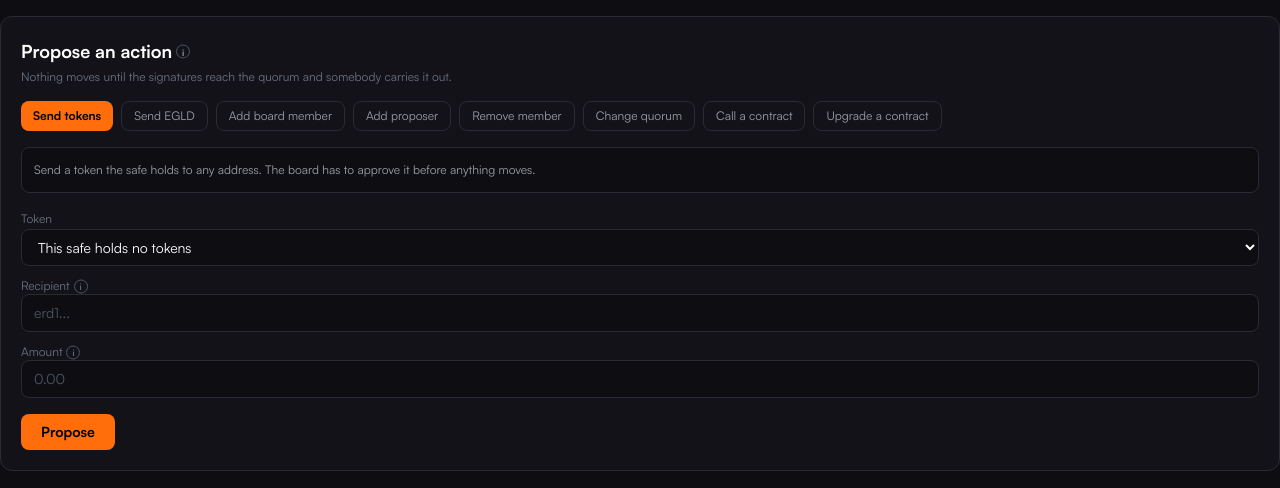
removing an address with no role is refused before any transaction
This screenshot has width=1280, height=488.
Click the button "Remove member".
click(517, 116)  # box [459,101,575,131]
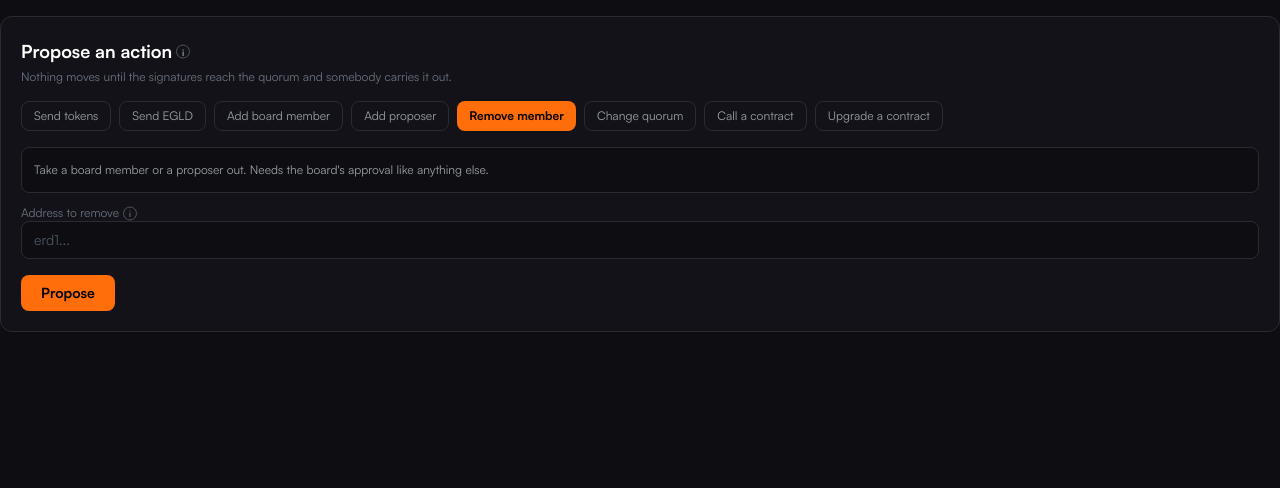
Type "erd1v6zzkkmhhq9vrtyedy0xwmzdnme8tzj5pvcvlnrys87zmkunxezsvh4kq3" into the field with placeholder "erd1...".
click(640, 240); type("erd1v6zzkkmhhq9vrtyedy0xwmzdnme8tzj5pvcvlnrys87zmkunxezsvh4kq3")  # box [21,220,1259,258]
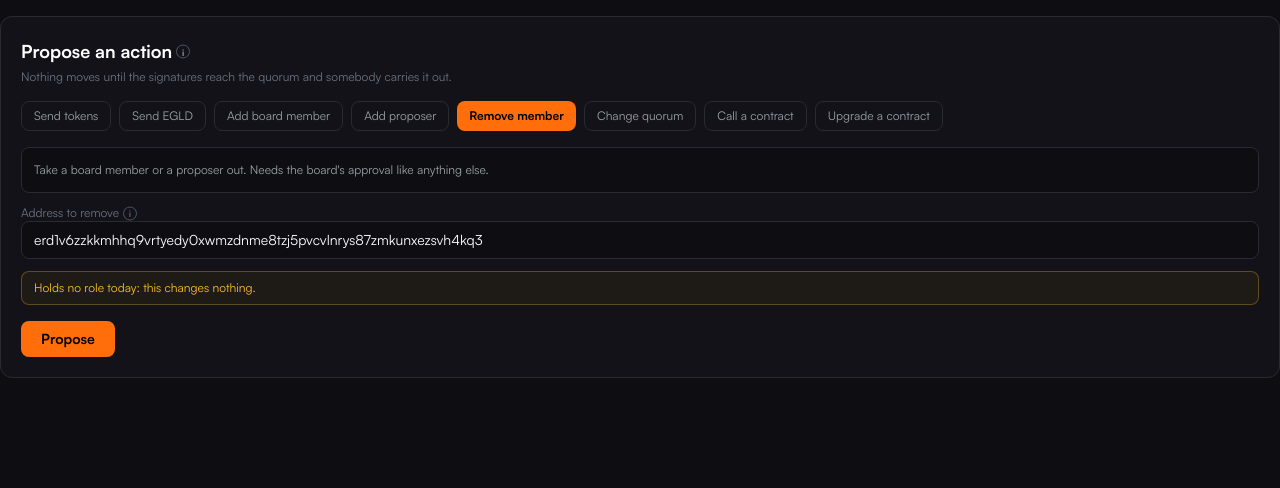
Click the button "Propose".
click(68, 338)  # box [21,320,115,356]
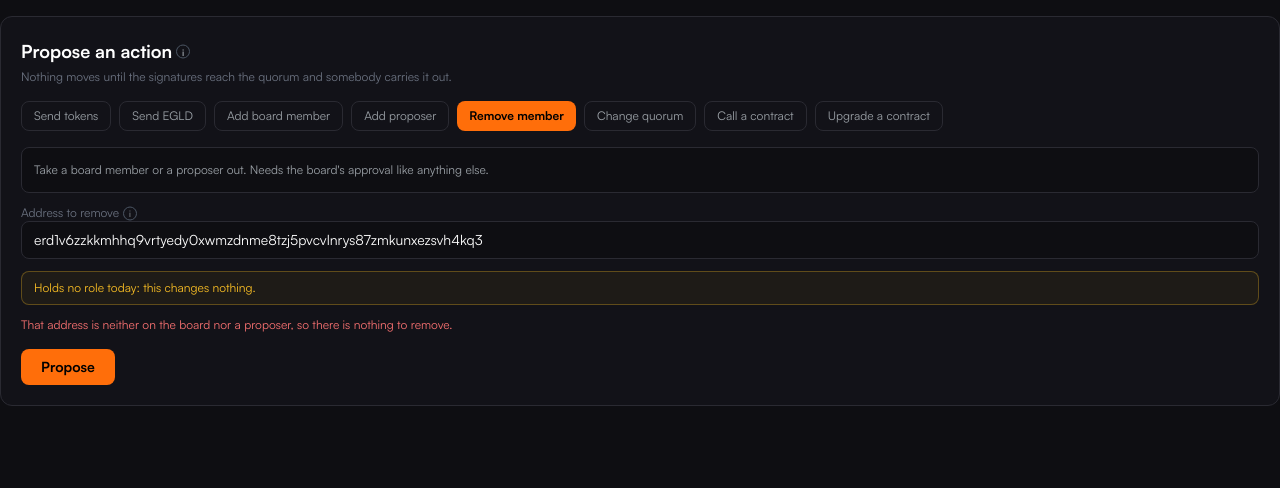
Expected: the text "nothing to remove" is shown, [21,316,452,332]
